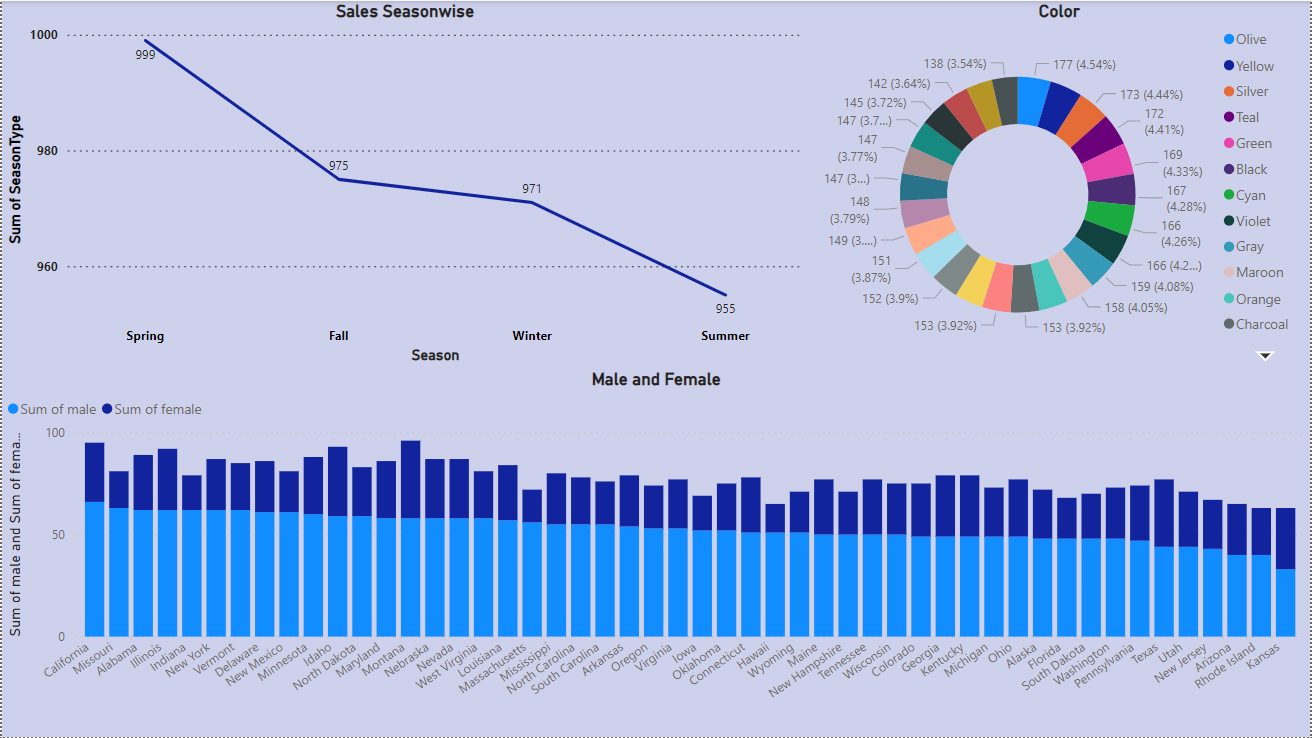

The page's visual inventory and layout, read from the dashboard file:
{"tool":"powerbi","page":{"name":"Page 2","canvas":[1280,720],"ordinal":1},"visuals":[{"type":"lineChart","title":"Sales Seasonwise","fields":{"Category":["Sales_Seasonwise.Season"],"Y":["Sum(Sales_Seasonwise.SeasonType)"]},"box":[0,0,788.8,360],"z":2000},{"type":"columnChart","title":"Male and Female","fields":{"Category":["location_gender_count.Location"],"Y":["Sum(location_gender_count.male)","Sum(location_gender_count.female)"]},"box":[0,360,1280,360],"z":3000},{"type":"donutChart","title":"Color","fields":{"Category":["colour_tyope.Color"],"Y":["Sum(colour_tyope.color.1)"]},"box":[788.8,0,491.2,360],"z":4000}]}

Visuals, with their boxes in screenshot pixels (x1, y1, x2, y2), scaled from the page's 1280x720 canvas onto the 1312x738 screenshot:
"Sales Seasonwise" lineChart: locate(0, 0, 809, 369)
"Male and Female" columnChart: locate(0, 369, 1311, 737)
"Color" donutChart: locate(809, 0, 1311, 369)
